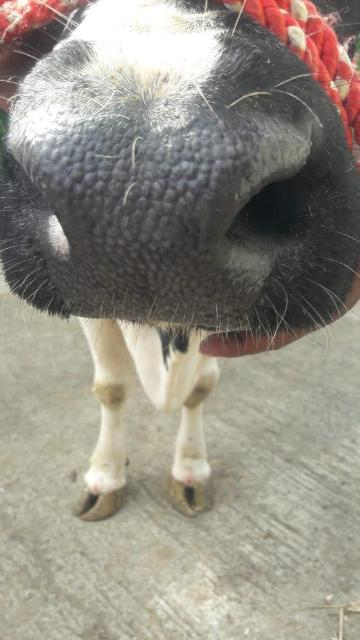Muzzle: (2, 94, 294, 320)
